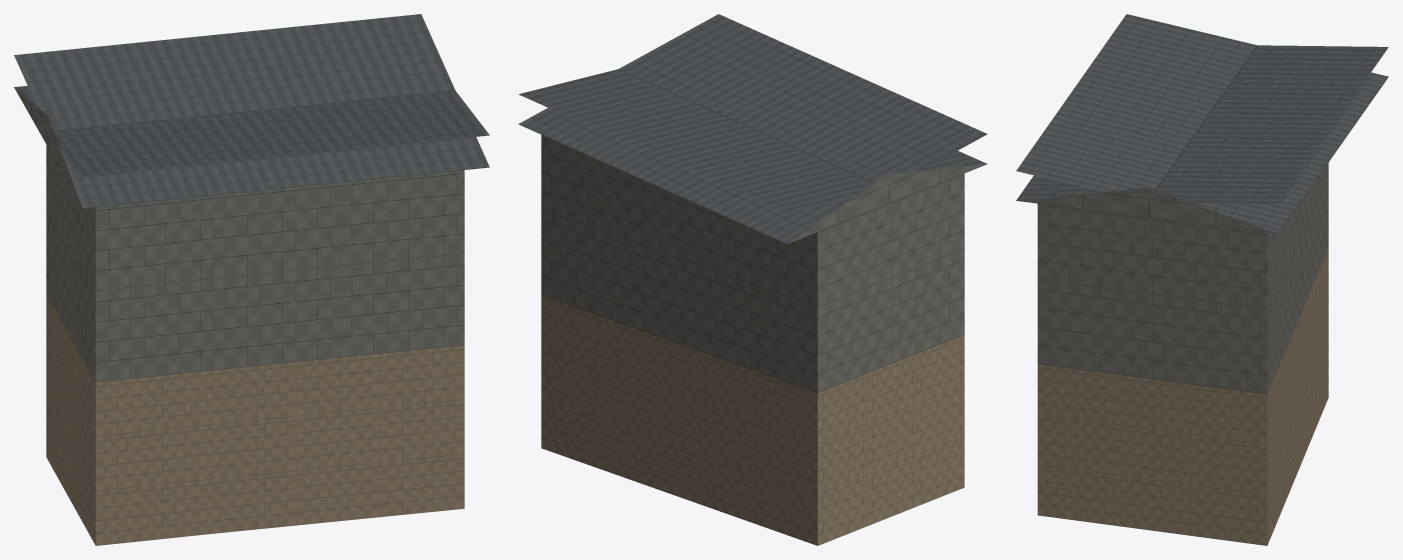
The model's file is bld_c8_38_512.gltf.
3 views of the same model, side by side, from view 1: azimuth 30°, elevation 25°; view 2: azimuth 150°, elevation 25°; view 3: azimuth 270°, elevation 25° (orthographic). The views are drawn at different scales.
Parts seen in each view (by area): view 1: bld_c8_38_512; view 2: bld_c8_38_512; view 3: bld_c8_38_512.
Part boxes in pixels (x1=…): bld_c8_38_512: x1=14, y1=14, x2=489, y2=545; bld_c8_38_512: x1=518, y1=14, x2=987, y2=545; bld_c8_38_512: x1=1016, y1=14, x2=1388, y2=545.
Bounding box in the file's own units: 13.73 × 11.8 × 11.38.
Materials: 4 (4 with a texture image).
